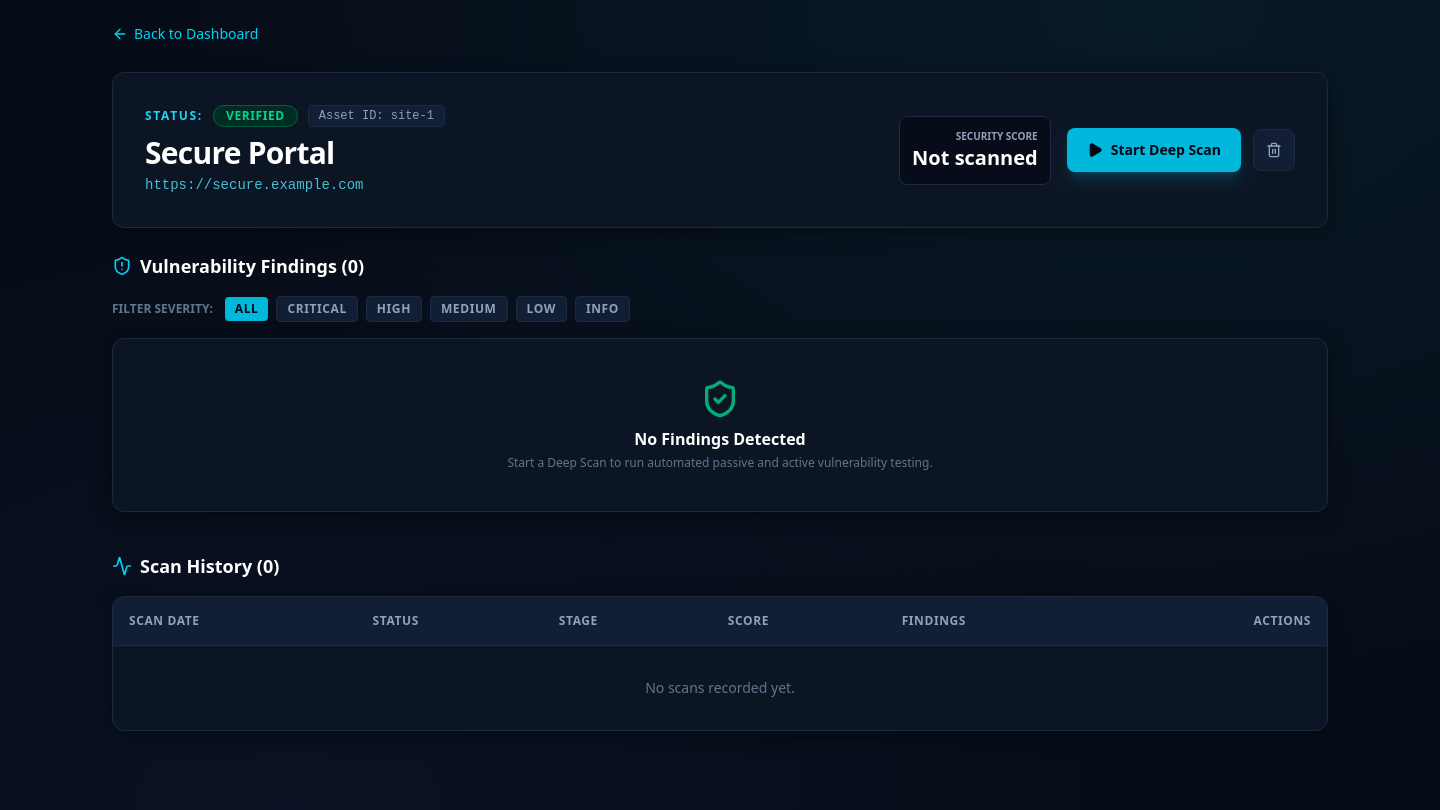
Test: WebsiteDetailPage › allows starting and cancelling a scan
The width and height of the screenshot is (1440, 810).
Click the button "Start Deep Scan": click(1154, 150) 1067,128 -> 1241,172
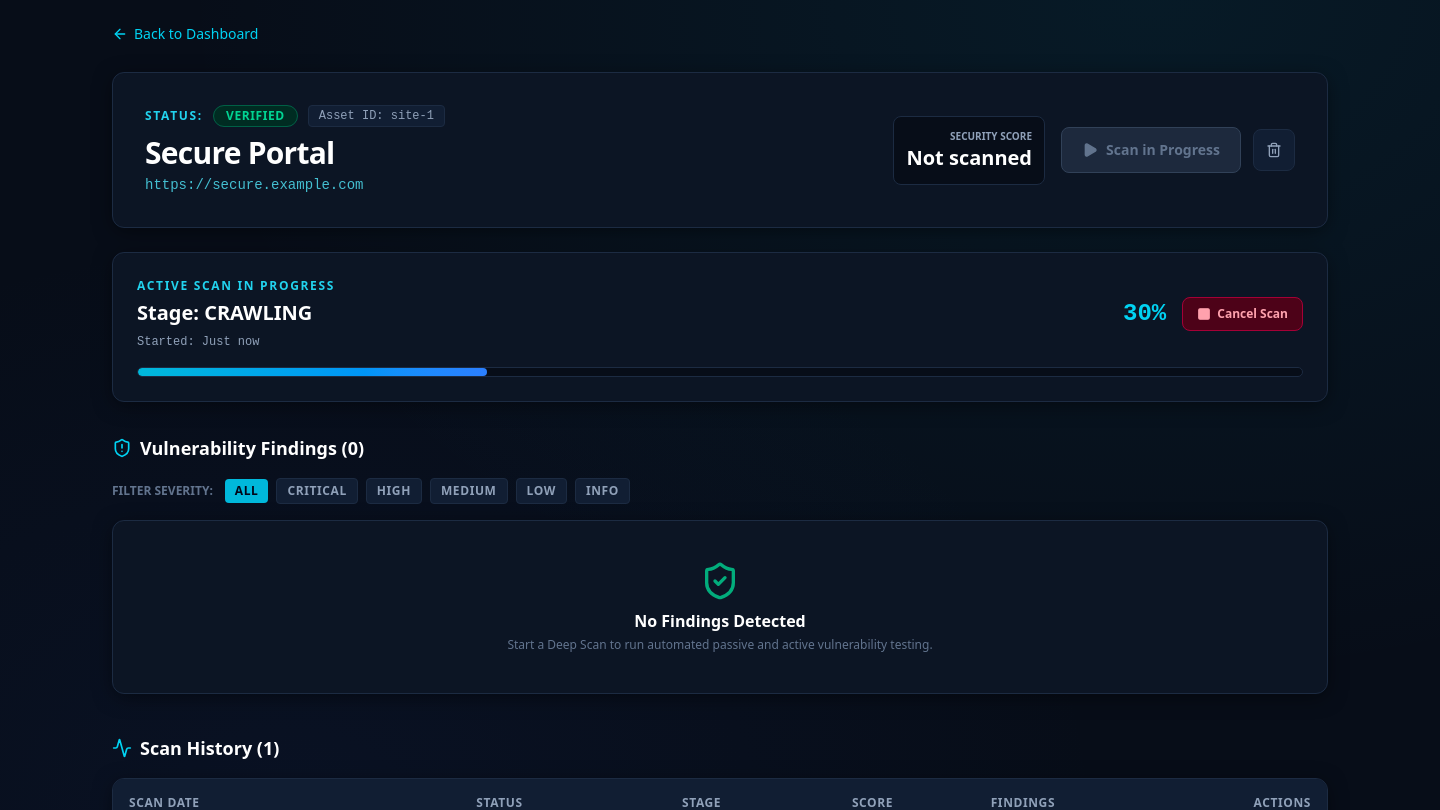
Expected: the text "ACTIVE SCAN IN PROGRESS" is shown, 137,277 -> 335,295
Expected: the heading "Stage: CRAWLING" is shown, 137,299 -> 335,327
Click the button "Cancel Scan": click(1243, 314) 1182,297 -> 1303,331
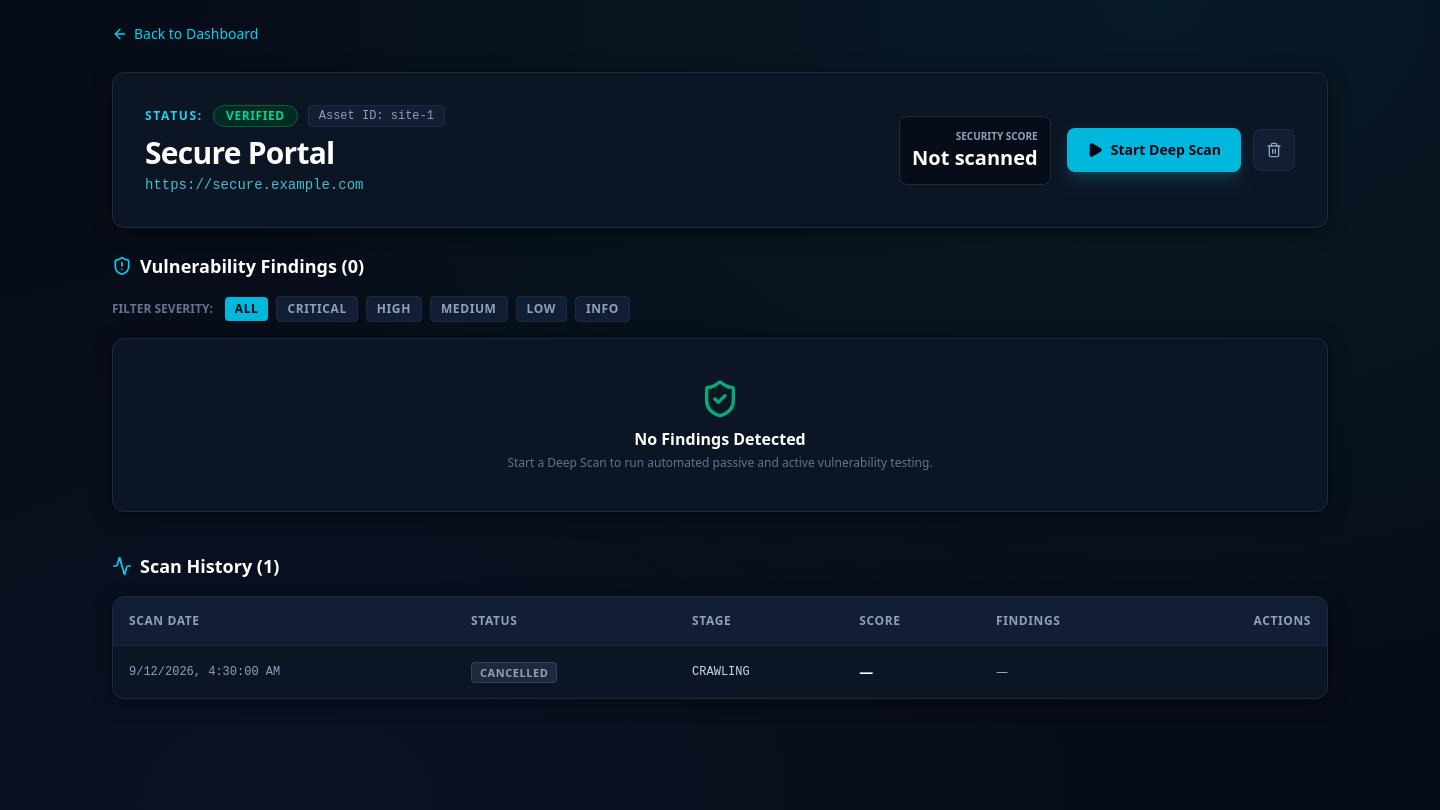
Expected: the text "CANCELLED" is shown, 471,662 -> 558,683
